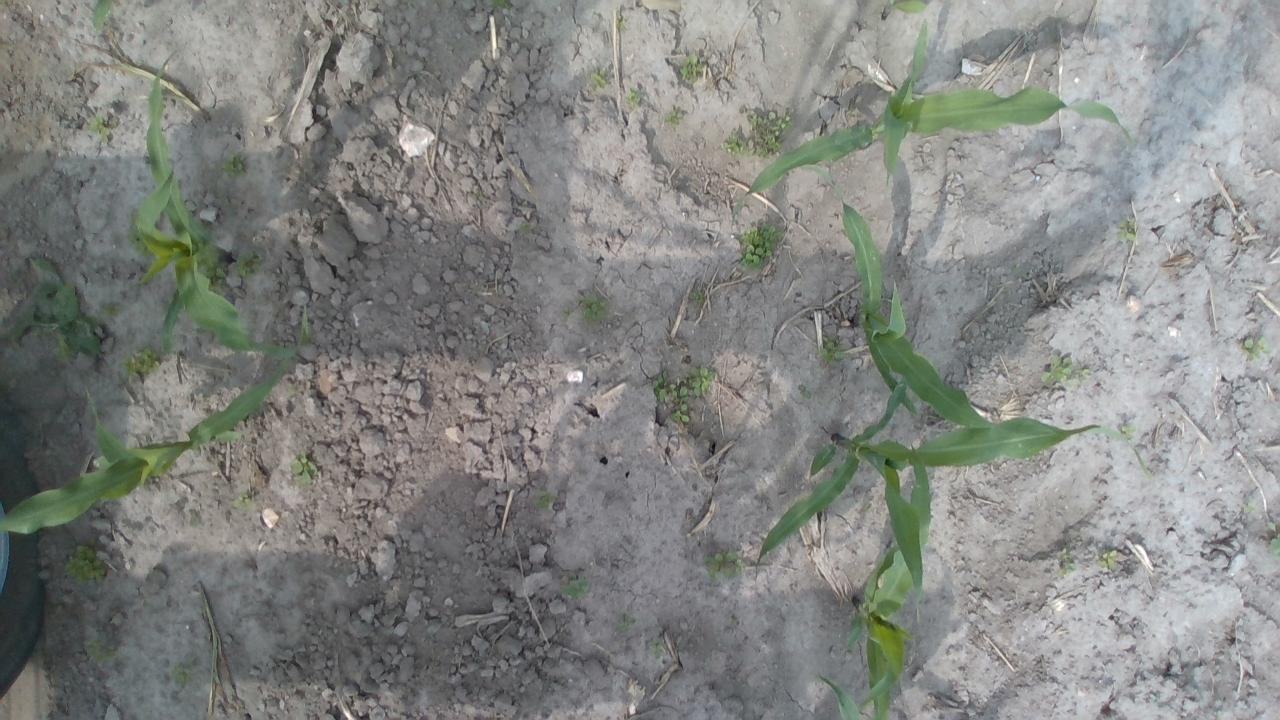Maize: (734, 20, 1142, 204), (760, 377, 1156, 565), (793, 158, 1005, 430), (127, 64, 310, 360), (0, 363, 288, 535), (851, 443, 932, 720), (813, 670, 875, 720), (91, 0, 121, 35), (883, 0, 922, 19)
Weeds: (12, 259, 101, 362), (745, 108, 793, 160), (738, 222, 784, 272), (64, 542, 105, 584), (1042, 354, 1095, 386), (118, 345, 162, 376), (702, 549, 746, 580), (686, 364, 718, 397), (290, 450, 318, 486), (818, 334, 848, 366), (579, 291, 608, 323), (559, 572, 592, 600), (679, 52, 706, 86), (220, 150, 250, 179), (86, 637, 118, 664), (652, 369, 678, 402), (88, 114, 116, 144), (1241, 334, 1271, 362), (668, 386, 690, 423), (238, 251, 264, 277), (720, 130, 746, 156), (202, 258, 230, 282), (170, 660, 194, 687), (1095, 548, 1120, 572), (624, 86, 646, 112), (1115, 218, 1138, 242), (98, 302, 124, 322), (588, 66, 608, 92), (1056, 548, 1076, 574), (664, 105, 686, 126), (1267, 521, 1280, 556), (647, 637, 668, 658), (614, 612, 636, 632), (1119, 422, 1139, 442), (535, 491, 557, 509), (686, 286, 707, 304), (232, 494, 255, 508), (796, 384, 814, 400), (558, 302, 572, 322), (1244, 498, 1258, 513), (518, 220, 531, 234), (474, 187, 486, 202), (188, 514, 200, 527), (489, 0, 508, 8)
